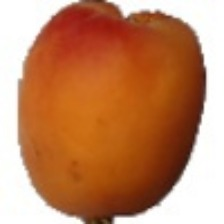apricot: (5, 29, 196, 179)
